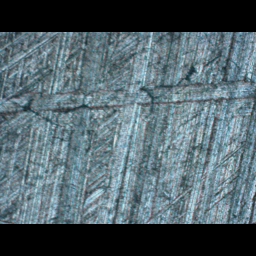d: (0, 53, 255, 119), (143, 138, 256, 223)
